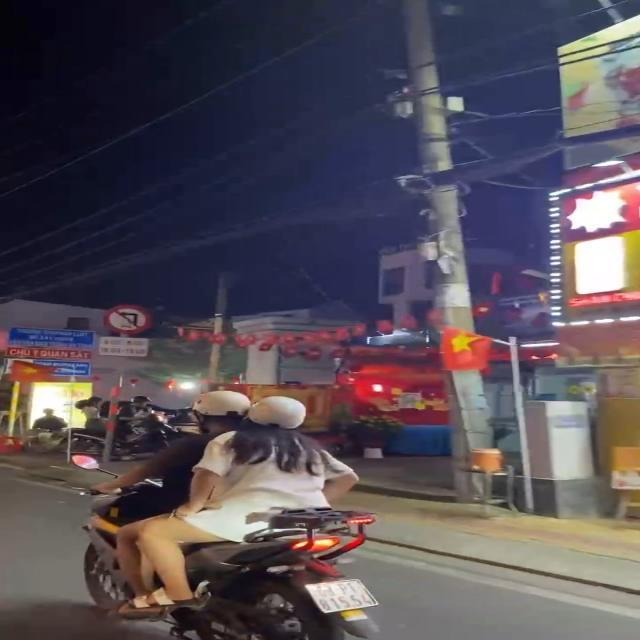123a-cam-re-trai: (102, 304, 154, 333)
